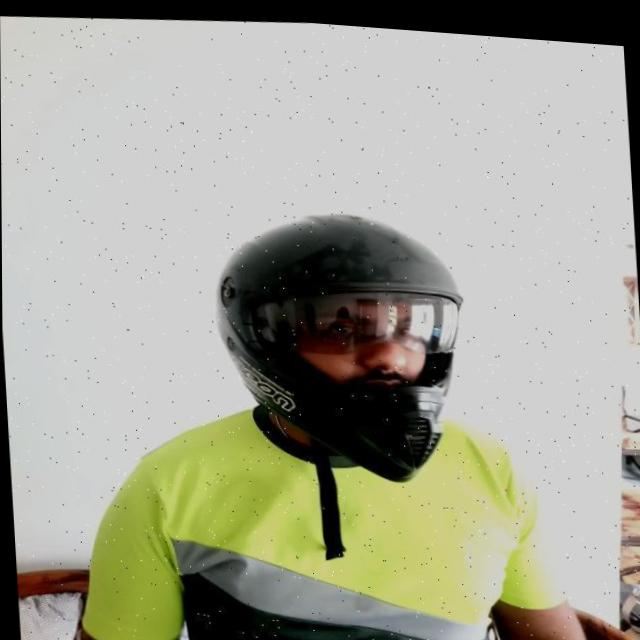helmet: (210, 195, 478, 570)
